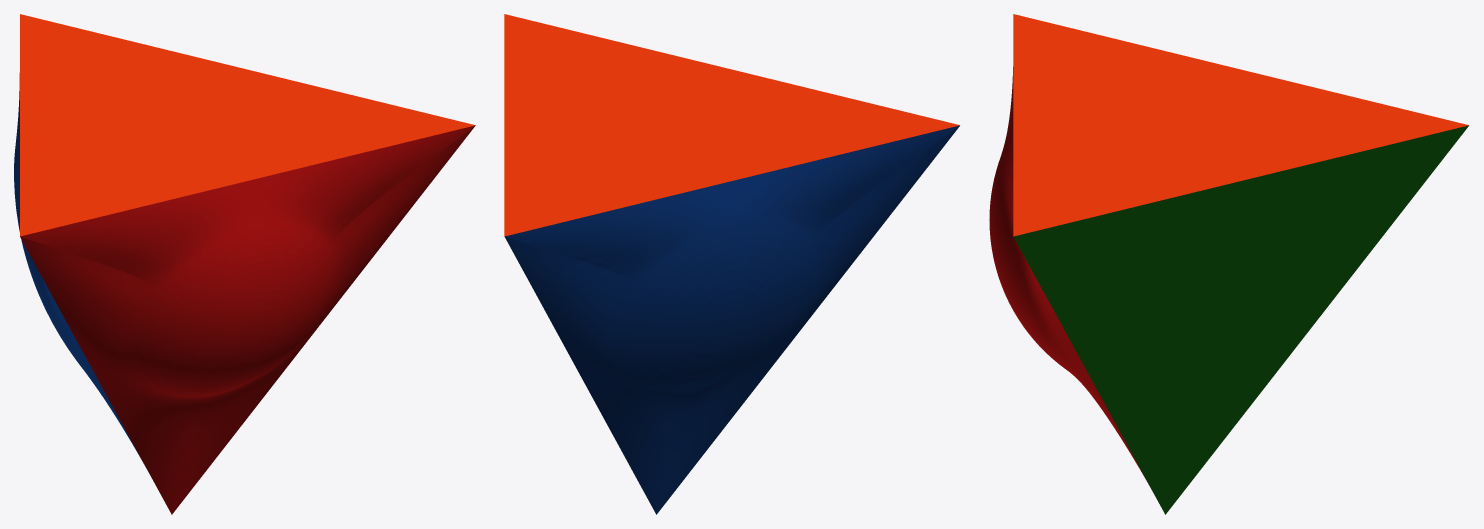
Rendered from 0_2_1_0_tetrahedron.obj.
The picture shows the model from 3 angles, left to right: view 1: azimuth 30°, elevation 25°; view 2: azimuth 150°, elevation 25°; view 3: azimuth 270°, elevation 25°; orthographic projection.
Parts seen in each view (by area): view 1: Level_2_-_level_2_front_Level_2_-_level_2_front.001, Level_0_-_level_0_top, Level_1_-_level_1_left_Level_1_-_level_1_left.002; view 2: Level_1_-_level_1_left_Level_1_-_level_1_left.002, Level_0_-_level_0_top; view 3: Level_0_-_level_0_right, Level_0_-_level_0_top, Level_2_-_level_2_front_Level_2_-_level_2_front.001.
Part boxes in pixels (x1=…): Level_2_-_level_2_front_Level_2_-_level_2_front.001: x1=20, y1=125, x2=475, y2=514; Level_0_-_level_0_top: x1=20, y1=14, x2=474, y2=236; Level_1_-_level_1_left_Level_1_-_level_1_left.002: x1=14, y1=73, x2=145, y2=466; Level_1_-_level_1_left_Level_1_-_level_1_left.002: x1=504, y1=125, x2=959, y2=514; Level_0_-_level_0_top: x1=504, y1=14, x2=959, y2=236; Level_0_-_level_0_right: x1=1013, y1=125, x2=1468, y2=514; Level_0_-_level_0_top: x1=1013, y1=14, x2=1468, y2=236; Level_2_-_level_2_front_Level_2_-_level_2_front.001: x1=989, y1=67, x2=1148, y2=484.
Bounding box in the file's own units: 0.1 × 0.0816 × 0.0911.
